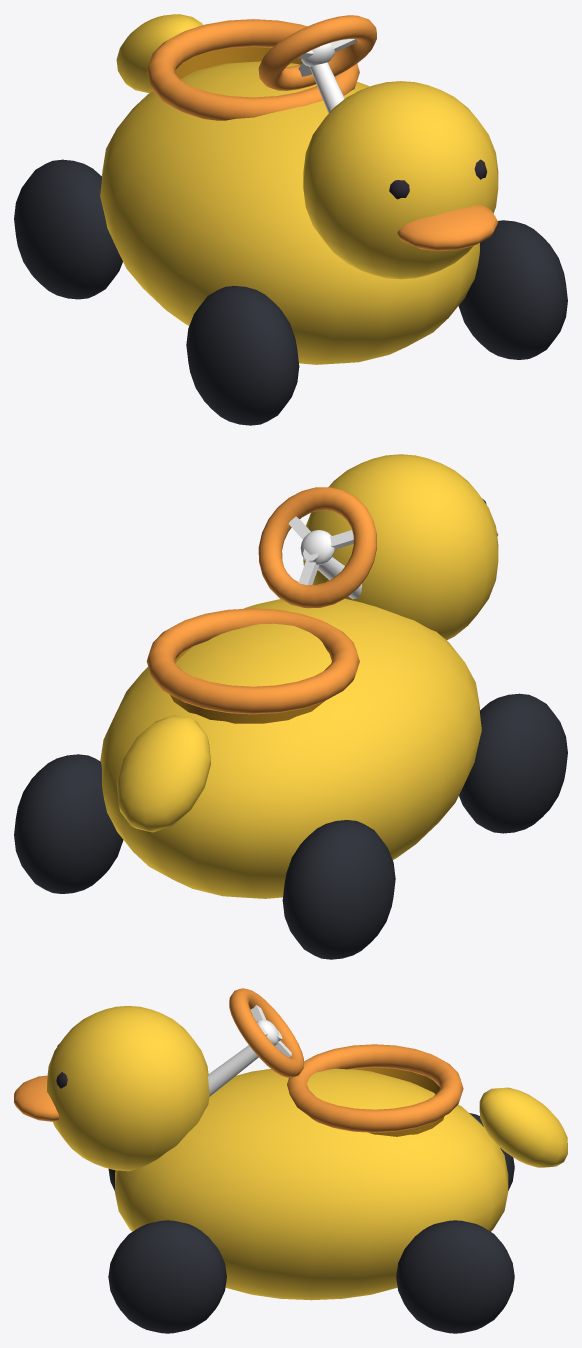
Rendered from kart-duck.glb.
The picture shows the model from 3 angles, top to bottom: view 1: azimuth 30°, elevation 25°; view 2: azimuth 150°, elevation 25°; view 3: azimuth 270°, elevation 25°; orthographic projection. The views are drawn at different scales.
Parts seen in each view (by area): view 1: kart-duck; view 2: kart-duck; view 3: kart-duck.
Part boxes in pixels (<box>): kart-duck: <box>14,14,567,425</box>; kart-duck: <box>14,454,567,959</box>; kart-duck: <box>14,988,567,1333</box>.
Bounding box in the file's own units: 1.92 × 1.77 × 3.08.
